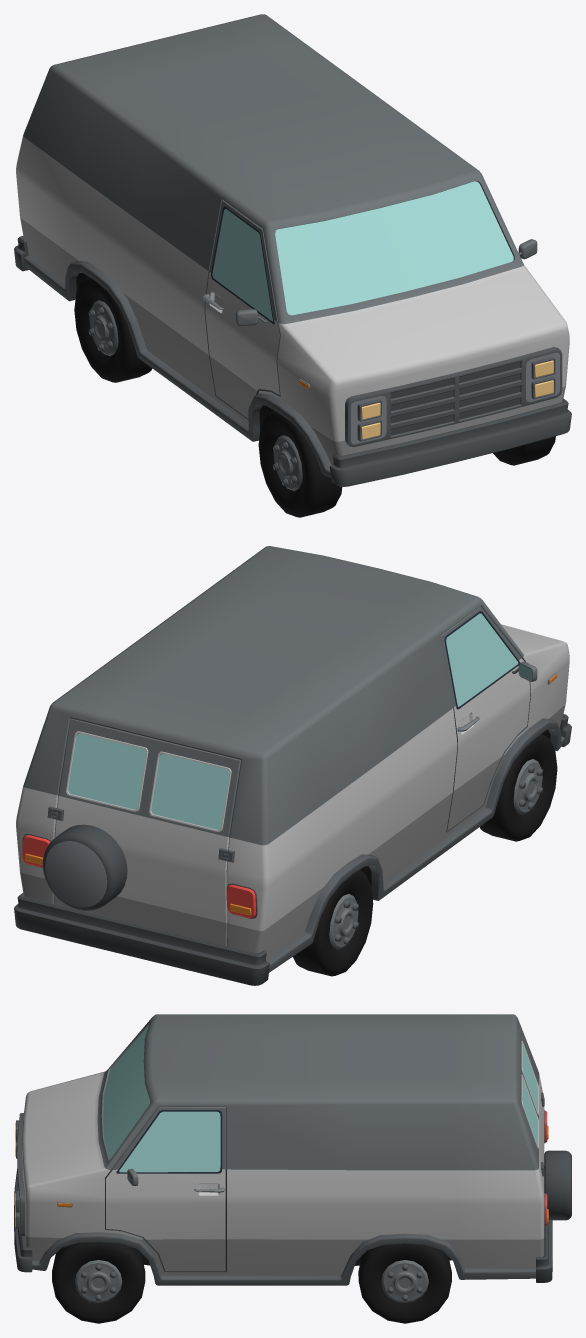
The model's file is SM_Vehicles_04_V1.fbx.
3 renders of one model, top to bottom at view 1: azimuth 30°, elevation 25°; view 2: azimuth 150°, elevation 25°; view 3: azimuth 270°, elevation 25°, orthographic. The views are drawn at different scales.
Parts seen in each view (by area): view 1: SM_Vehicles_04_V1, SM_Vehicles_04_FR, SM_Vehicles_04_RR, SM_Vehicles_04_FL; view 2: SM_Vehicles_04_V1, SM_Vehicles_04_RR, SM_Vehicles_04_FR; view 3: SM_Vehicles_04_V1, SM_Vehicles_04_FL, SM_Vehicles_04_RL.
Part boxes in pixels (x1=…): SM_Vehicles_04_V1: x1=14, y1=14, x2=571, y2=486; SM_Vehicles_04_FR: x1=258, y1=410, x2=342, y2=517; SM_Vehicles_04_RR: x1=74, y1=276, x2=152, y2=382; SM_Vehicles_04_FL: x1=493, y1=436, x2=555, y2=465; SM_Vehicles_04_V1: x1=14, y1=546, x2=571, y2=985; SM_Vehicles_04_RR: x1=293, y1=870, x2=373, y2=976; SM_Vehicles_04_FR: x1=479, y1=734, x2=557, y2=841; SM_Vehicles_04_V1: x1=14, y1=1014, x2=571, y2=1285; SM_Vehicles_04_FL: x1=52, y1=1242, x2=145, y2=1323; SM_Vehicles_04_RL: x1=358, y1=1243, x2=451, y2=1323.
Bounding box in the file's own units: 2.18 × 1.82 × 4.21.
